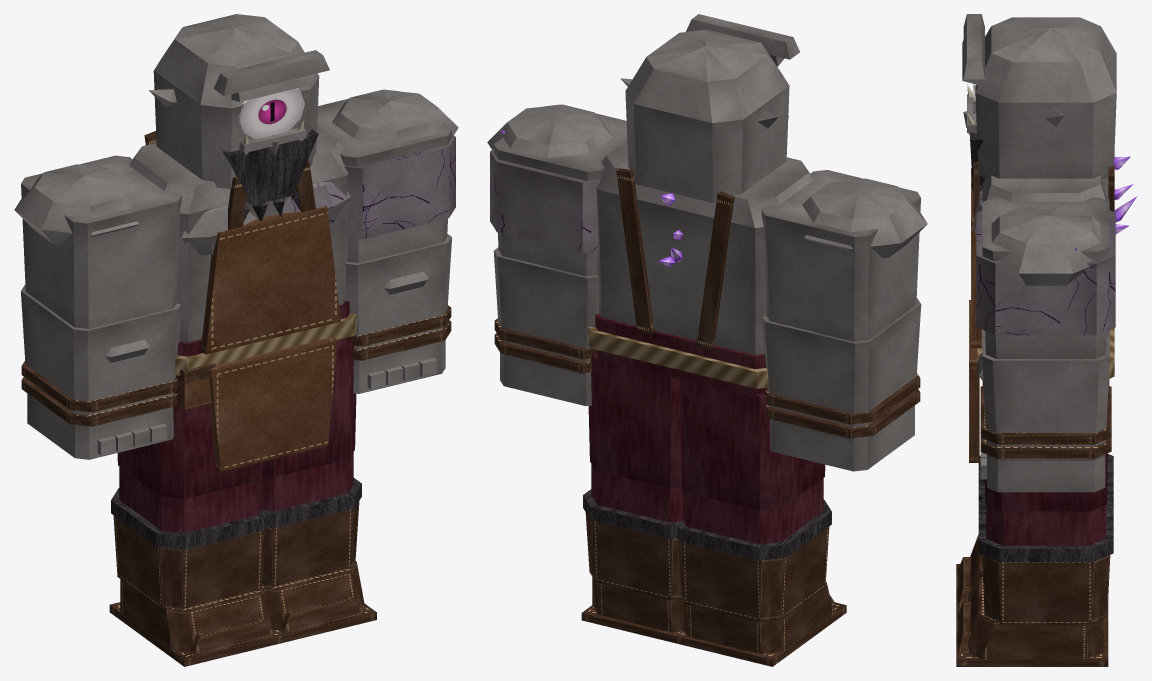
The model's file is Woodcutter.fbx.
The picture shows the model from 3 angles, left to right: view 1: azimuth 30°, elevation 25°; view 2: azimuth 150°, elevation 25°; view 3: azimuth 270°, elevation 25°; orthographic projection. The views are drawn at different scales.
Visible parts, largest first — view 1: UpperTorso_Armor, Head_Armor, RightUpperArm_Armor, LeftUpperArm_Armor, LowerTorso_Armor, RightLowerLeg_Armor, RightLowerArm_Armor, LeftLowerLeg_Armor, LeftLowerArm_Armor, RightFoot_Armor, RightUpperLeg_Armor, LeftFoot_Armor (+3 smaller); view 2: UpperTorso_Armor, Head_Armor, RightUpperArm_Armor, LeftUpperArm_Armor, RightLowerLeg_Armor, RightLowerArm_Armor, RightUpperLeg_Armor, LeftLowerLeg_Armor, LeftUpperLeg_Armor, LeftLowerArm_Armor, LowerTorso_Armor, RightFoot_Armor (+3 smaller); view 3: Head_Armor, LeftUpperArm_Armor, LeftLowerLeg_Armor, LeftLowerArm_Armor, LeftFoot_Armor, UpperTorso_Armor, LeftHand_Armor, LeftUpperLeg_Armor, LowerTorso_Armor, RightFoot_Armor, UpperTorso_Glow, RightLowerLeg_Armor.
Boxes of the visible parts, bbox=[...] form: UpperTorso_Armor: bbox=[129, 125, 350, 354]; Head_Armor: bbox=[148, 14, 329, 221]; RightUpperArm_Armor: bbox=[14, 155, 181, 328]; LeftUpperArm_Armor: bbox=[317, 89, 458, 262]; LowerTorso_Armor: bbox=[174, 301, 357, 471]; RightLowerLeg_Armor: bbox=[111, 466, 266, 609]; RightLowerArm_Armor: bbox=[21, 285, 181, 428]; LeftLowerLeg_Armor: bbox=[259, 452, 361, 587]; LeftLowerArm_Armor: bbox=[345, 234, 451, 363]; RightFoot_Armor: bbox=[109, 579, 286, 666]; RightUpperLeg_Armor: bbox=[117, 382, 262, 499]; LeftFoot_Armor: bbox=[262, 560, 376, 644]; UpperTorso_Armor: bbox=[596, 140, 813, 354]; Head_Armor: bbox=[620, 14, 799, 202]; RightUpperArm_Armor: bbox=[761, 170, 927, 341]; LeftUpperArm_Armor: bbox=[487, 104, 627, 276]; RightLowerLeg_Armor: bbox=[676, 478, 831, 621]; RightLowerArm_Armor: bbox=[762, 298, 921, 440]; RightUpperLeg_Armor: bbox=[680, 380, 825, 510]; LeftLowerLeg_Armor: bbox=[583, 464, 682, 599]; LeftUpperLeg_Armor: bbox=[588, 352, 681, 488]; LeftLowerArm_Armor: bbox=[493, 247, 599, 375]; LowerTorso_Armor: bbox=[588, 314, 768, 397]; RightFoot_Armor: bbox=[671, 582, 846, 666]; Head_Armor: bbox=[962, 14, 1116, 196]; LeftUpperArm_Armor: bbox=[976, 197, 1115, 358]; LeftLowerLeg_Armor: bbox=[978, 498, 1113, 624]; LeftLowerArm_Armor: bbox=[978, 330, 1111, 460]; LeftFoot_Armor: bbox=[956, 577, 1108, 666]; UpperTorso_Armor: bbox=[971, 153, 1114, 347]; LeftHand_Armor: bbox=[980, 452, 1105, 492]; LeftUpperLeg_Armor: bbox=[983, 384, 1108, 511]; LowerTorso_Armor: bbox=[969, 300, 1114, 462]; RightFoot_Armor: bbox=[956, 534, 1108, 614]; UpperTorso_Glow: bbox=[1114, 156, 1136, 234]; RightLowerLeg_Armor: bbox=[978, 454, 1113, 500].
Size of the model in its own units: 464 by 618 by 172.
2 materials, 2 textured.
